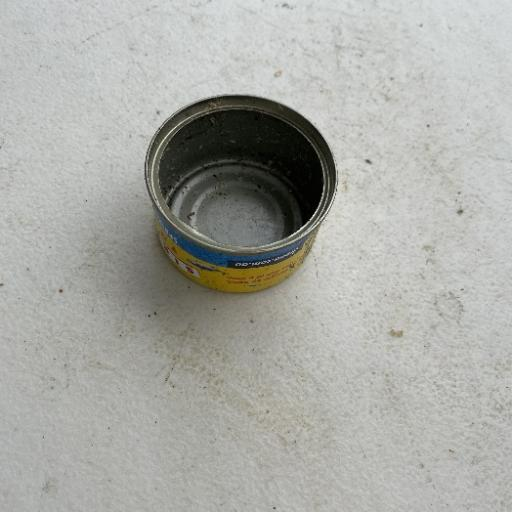Metal: (142, 92, 339, 295)
